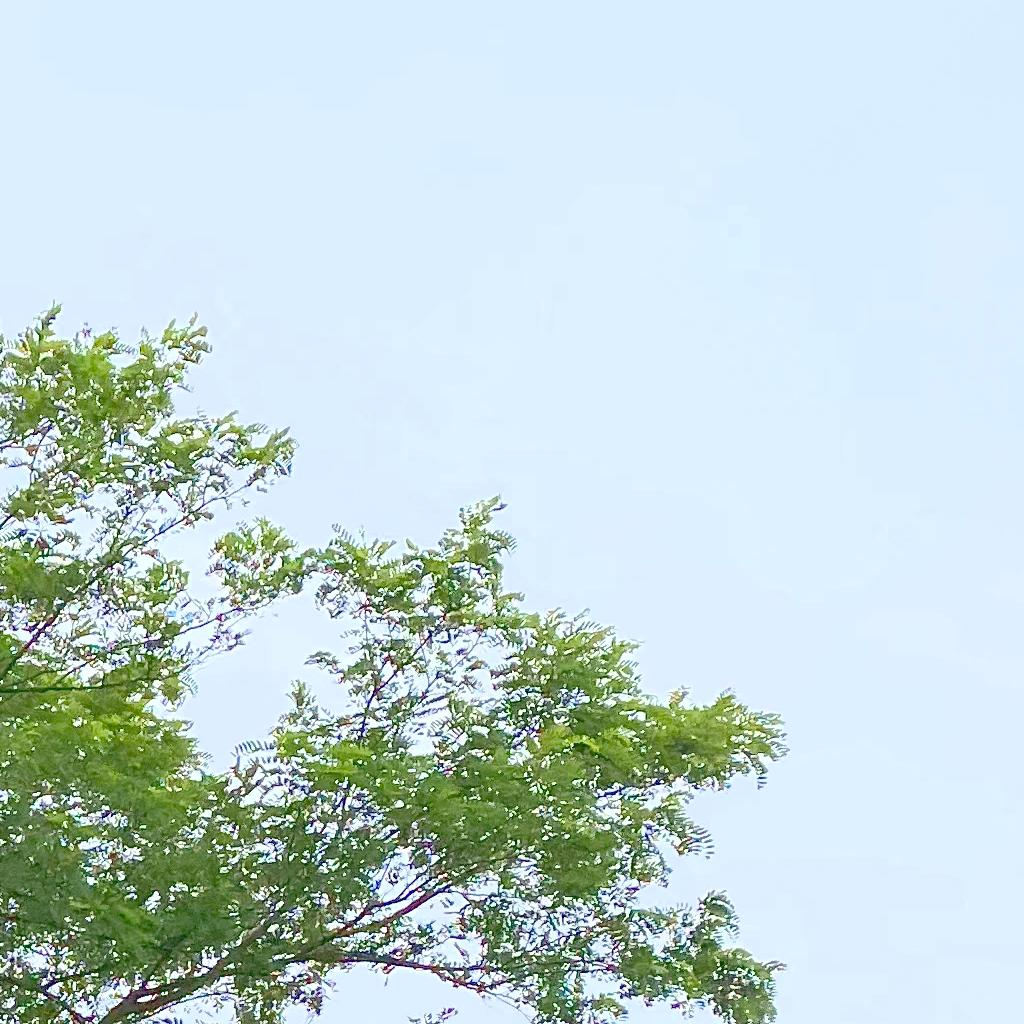tree: (1, 298, 792, 1024)
